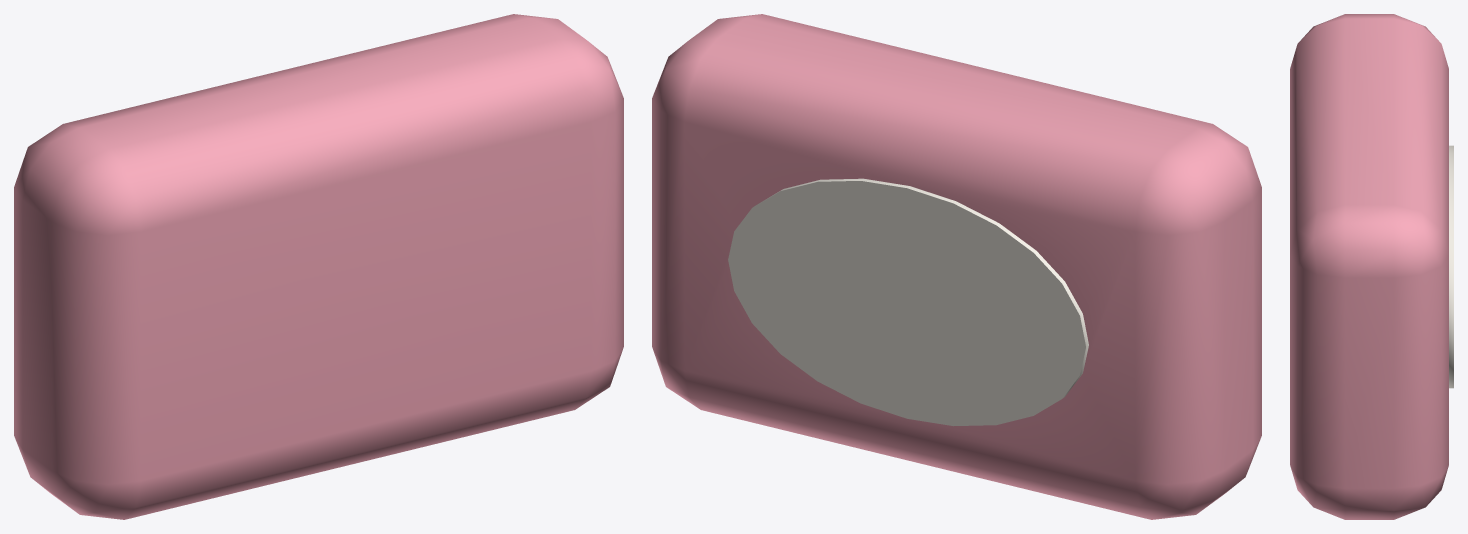
File: soap.glb
3 renders of one model, left to right at view 1: azimuth 30°, elevation 25°; view 2: azimuth 150°, elevation 25°; view 3: azimuth 270°, elevation 25°, orthographic. The views are drawn at different scales.
Parts seen in each view (by area): view 1: soap; view 2: soap; view 3: soap.
Part boxes in pixels (x1,y1,x2,y2): soap: (14, 14, 623, 519); soap: (652, 14, 1261, 519); soap: (1290, 14, 1453, 519).
Size of the model in its own units: 0.09 by 0.056 by 0.0268.
